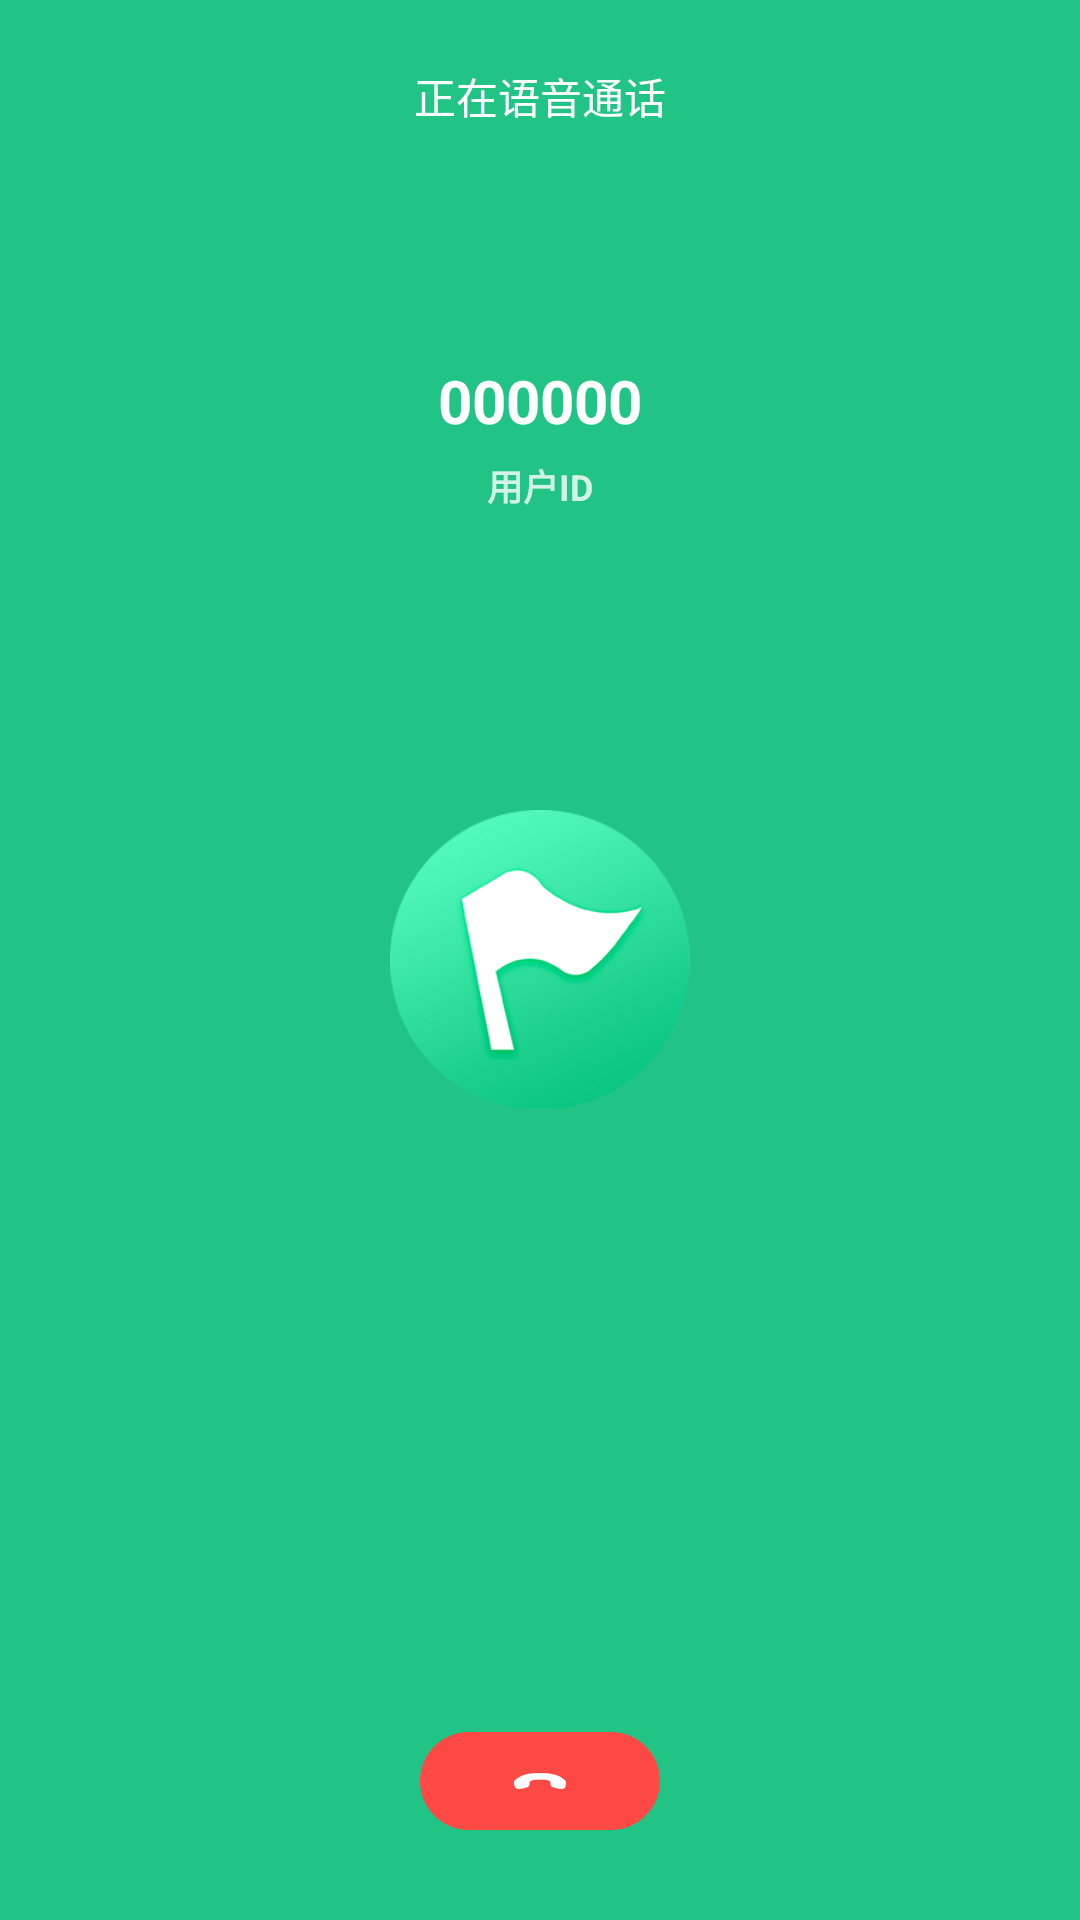

Named icons in this screenshot (1080x1920) and their bounding boxes, (x1, y1, x2, y2):
hang up: (420, 1732, 660, 1830)
